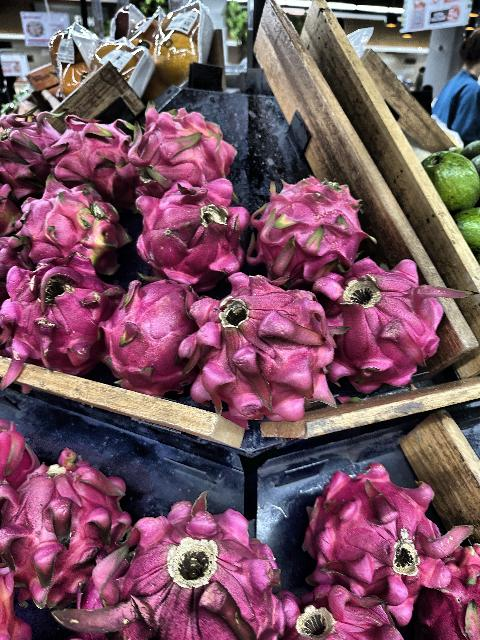buah-naga-belum-matang: (11, 184, 130, 270)
buah-naga-matang: (97, 502, 285, 640), (301, 472, 456, 610), (186, 273, 336, 413), (1, 458, 124, 598), (318, 259, 438, 385), (0, 264, 116, 374), (94, 278, 206, 387), (132, 182, 252, 280), (253, 178, 371, 270), (130, 102, 244, 182), (36, 119, 142, 201), (1, 117, 54, 206)
